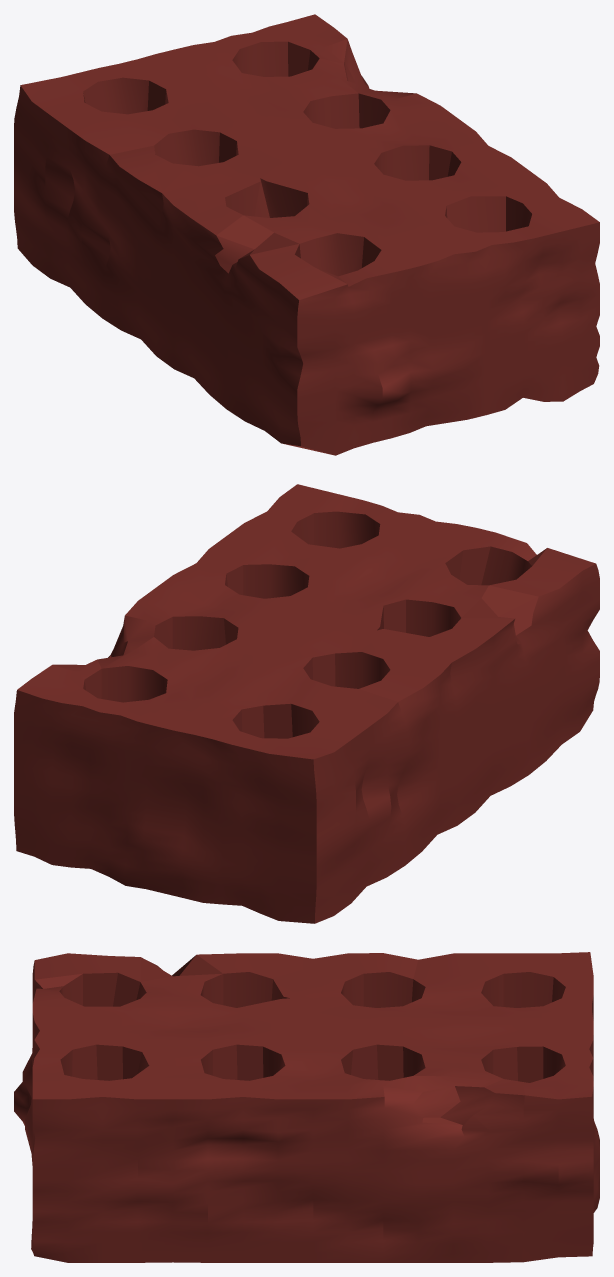
Rendered from brick.fbx.
3 renders of one model, top to bottom at view 1: azimuth 30°, elevation 25°; view 2: azimuth 150°, elevation 25°; view 3: azimuth 270°, elevation 25°, orthographic.
Visible parts, largest first — view 1: Cube; view 2: Cube; view 3: Cube.
Boxes of the visible parts, x1=… form: Cube: x1=14, y1=14, x2=599, y2=455; Cube: x1=14, y1=484, x2=599, y2=923; Cube: x1=14, y1=952, x2=599, y2=1262.
Size of the model in its own units: 437 by 230 by 713.
